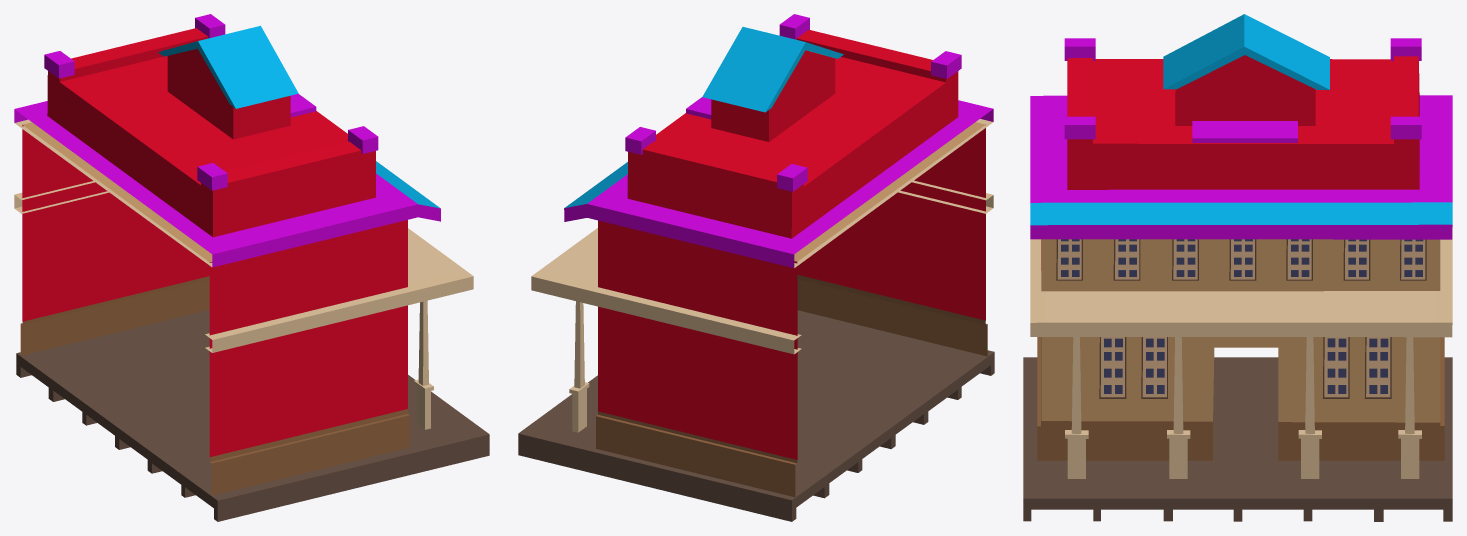
File: dom_2_bez_tylu_lepsza_wersja.fbx
3 views of the same model, side by side, from view 1: azimuth 30°, elevation 25°; view 2: azimuth 150°, elevation 25°; view 3: azimuth 270°, elevation 25° (orthographic). The views are drawn at different scales.
Visible parts, largest first — view 1: Plane.015, Plane.001; view 2: Plane.015, Plane.001; view 3: Plane.015, Plane.001.
Boxes of the visible parts, bbox=[...] form: Plane.015: bbox=[14, 14, 489, 521]; Plane.001: bbox=[414, 300, 433, 429]; Plane.015: bbox=[518, 14, 994, 521]; Plane.001: bbox=[569, 301, 589, 432]; Plane.015: bbox=[1023, 14, 1452, 521]; Plane.001: bbox=[1037, 239, 1444, 478].
Size of the model in its own units: 7.99 by 10.72 by 10.17.
